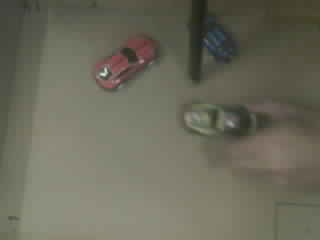Car: (94, 36, 156, 89), (183, 103, 256, 135), (203, 17, 236, 62)
